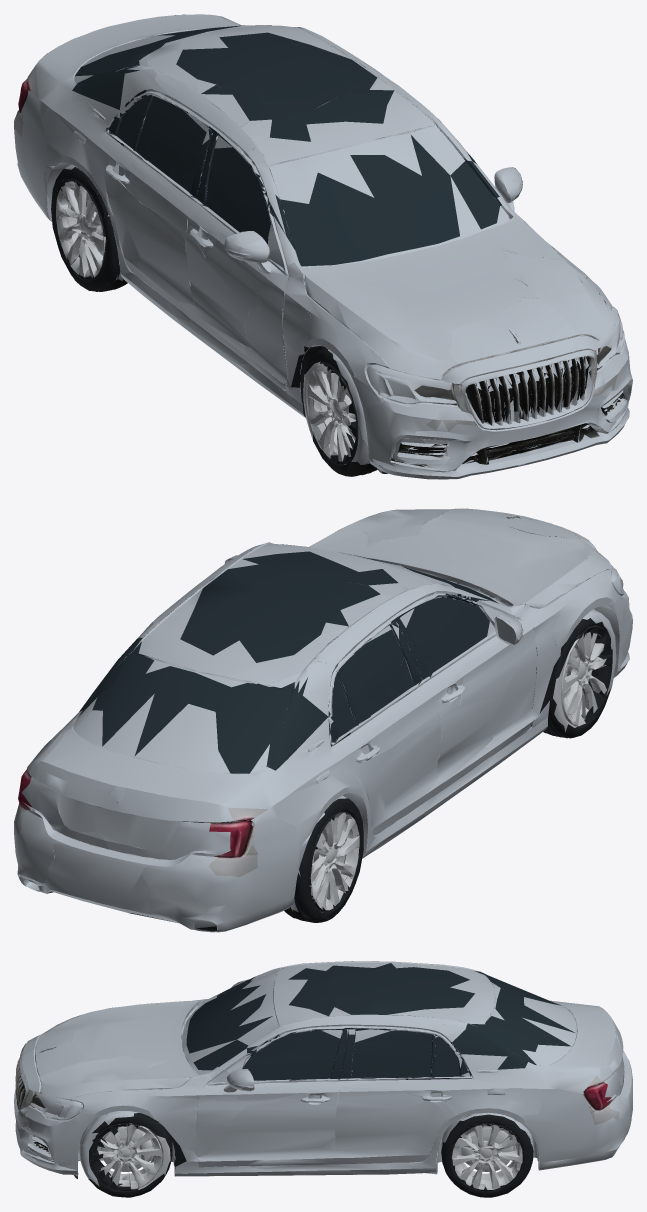
Rendered from reference-sedan-v179.glb.
3 views of the same model, one above another, from view 1: azimuth 30°, elevation 25°; view 2: azimuth 150°, elevation 25°; view 3: azimuth 270°, elevation 25° (orthographic). The views are drawn at different scales.
Parts seen in each view (by area): view 1: model; view 2: model; view 3: model.
Part boxes in pixels (left/top/right/bottom): model: left=14, top=14, right=632, bottom=479; model: left=14, top=508, right=632, bottom=932; model: left=14, top=961, right=632, bottom=1197.
Bounding box in the file's own units: 2.01 × 1.55 × 5.12.
5 materials, 1 textured.
